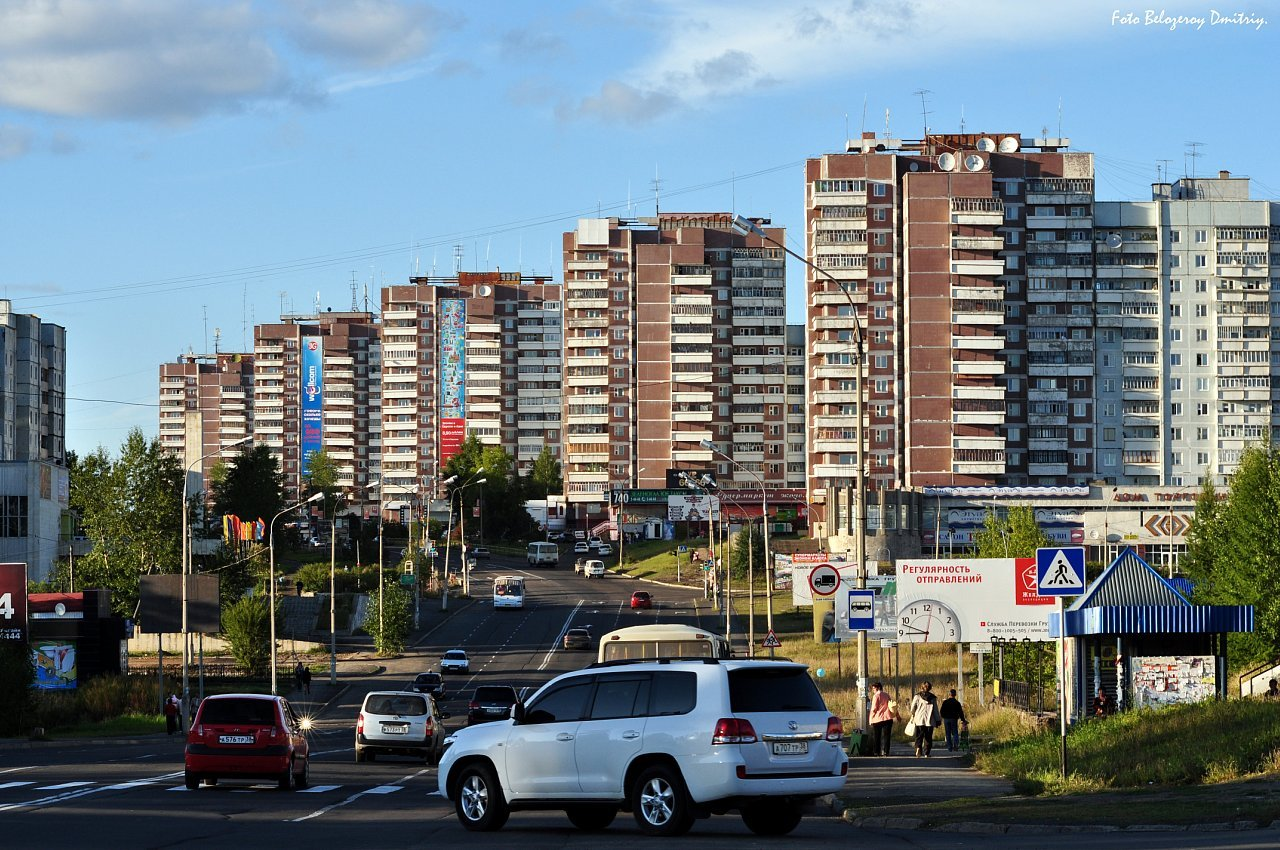sign: (1034, 545, 1087, 597), (847, 587, 876, 632), (808, 563, 842, 597), (761, 629, 781, 649), (706, 558, 717, 569), (679, 545, 688, 554)
